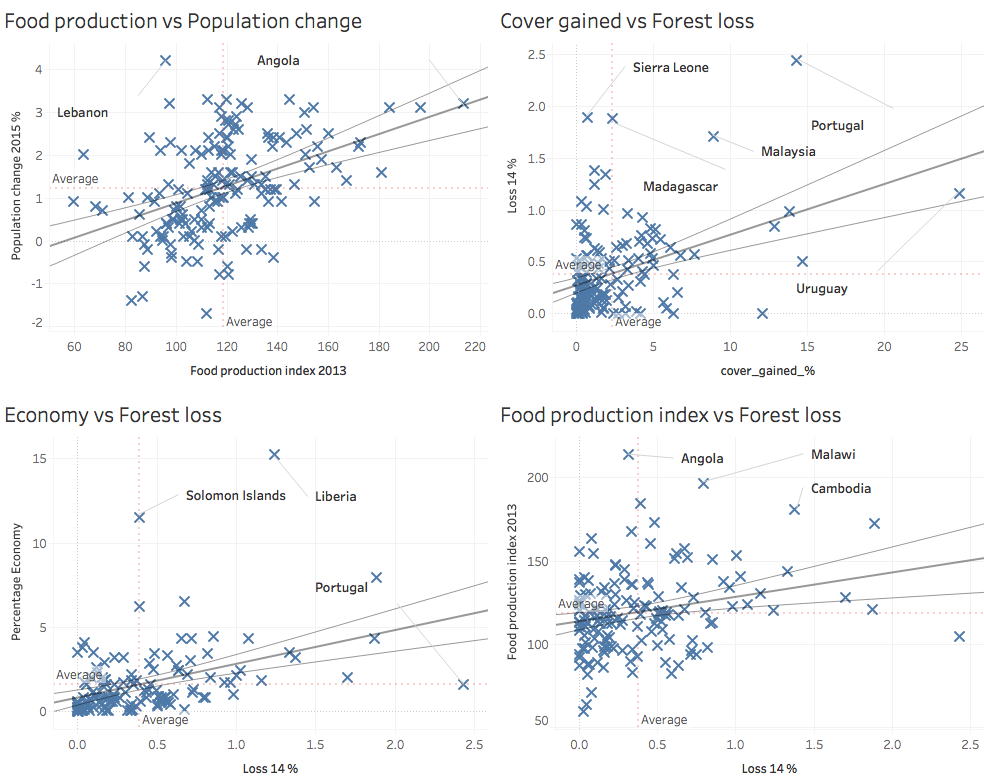

What the dashboard file says about the page in this screenshot:
{"tool":"tableau","page":{"name":"Dashboard 6","canvas":[1000,800],"ordinal":5},"visuals":[{"type":"worksheet","title":"Food/pop","mark":"Automatic","rows":["Population change 2015 %"],"cols":["Food production index 2013"],"box":[0,0,500,398]},{"type":"worksheet","title":"loss/gain","mark":"Automatic","rows":["loss_14_%"],"cols":["Calculation_259168109860089857"],"box":[500,0,500,398]},{"type":"worksheet","title":"eco/loss","mark":"Automatic","rows":["percentage_economy"],"cols":["loss_14_%"],"box":[0,398,500,398]},{"type":"worksheet","title":"food/loss","mark":"Automatic","rows":["Food production index 2013"],"cols":["loss_14_%"],"box":[500,398,500,398]}]}

Visuals, with their boxes in screenshot pixels (x1, y1, x2, y2), scaled from the page's 1000x800 canvas onto the 984x784 screenshot:
"Food/pop" worksheet: 0:0:492:390
"loss/gain" worksheet: 492:0:983:390
"eco/loss" worksheet: 0:390:492:780
"food/loss" worksheet: 492:390:983:780
